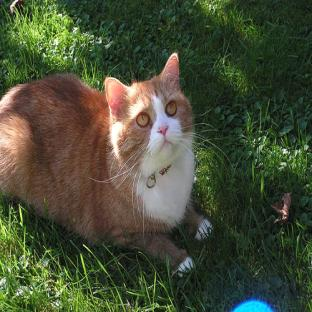Animal: (1, 53, 211, 273)
